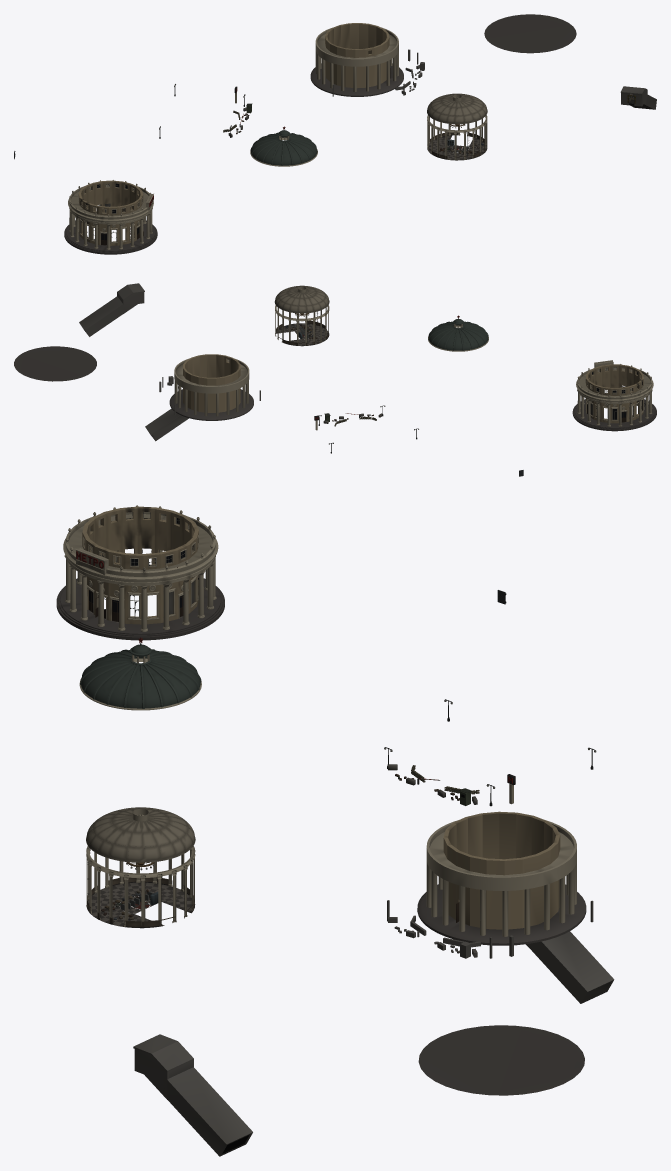
The model's file is singular_vestibulo.glb.
3 renders of one model, top to bottom at view 1: azimuth 30°, elevation 25°; view 2: azimuth 150°, elevation 25°; view 3: azimuth 270°, elevation 25°, orthographic. The views are drawn at different scales.
Parts seen in each view (by area): view 1: vestibulo_colision, vestibulo, vestibulo_sala, vestibulo_hueco, vestibulo_cupula, vestibulo_esclusa, vestibulo_entorno; view 2: vestibulo_colision, vestibulo, vestibulo_sala, vestibulo_hueco, vestibulo_cupula, vestibulo_esclusa, vestibulo_entorno; view 3: vestibulo_colision, vestibulo, vestibulo_sala, vestibulo_hueco, vestibulo_esclusa, vestibulo_cupula, vestibulo_entorno.
Part boxes in pixels (x1,y1,x2,y2): vestibulo_colision: [310, 23, 424, 96]; vestibulo: [64, 180, 157, 254]; vestibulo_sala: [427, 93, 487, 160]; vestibulo_hueco: [484, 14, 576, 53]; vestibulo_cupula: [250, 126, 317, 166]; vestibulo_esclusa: [620, 86, 656, 109]; vestibulo_entorno: [159, 84, 252, 138]; vestibulo_colision: [145, 354, 260, 441]; vestibulo: [572, 360, 656, 431]; vestibulo_sala: [274, 285, 329, 346]; vestibulo_hueco: [14, 346, 96, 381]; vestibulo_cupula: [428, 315, 488, 351]; vestibulo_esclusa: [79, 283, 144, 336]; vestibulo_entorno: [314, 405, 418, 453]; vestibulo_colision: [387, 811, 614, 1003]; vestibulo: [56, 505, 224, 640]; vestibulo_sala: [86, 807, 195, 928]; vestibulo_hueco: [418, 1025, 584, 1095]; vestibulo_esclusa: [133, 1034, 252, 1156]; vestibulo_cupula: [79, 637, 201, 710]; vestibulo_entorno: [384, 699, 596, 806].
Size of the model in its own units: 211 by 31.63 by 92.7.
